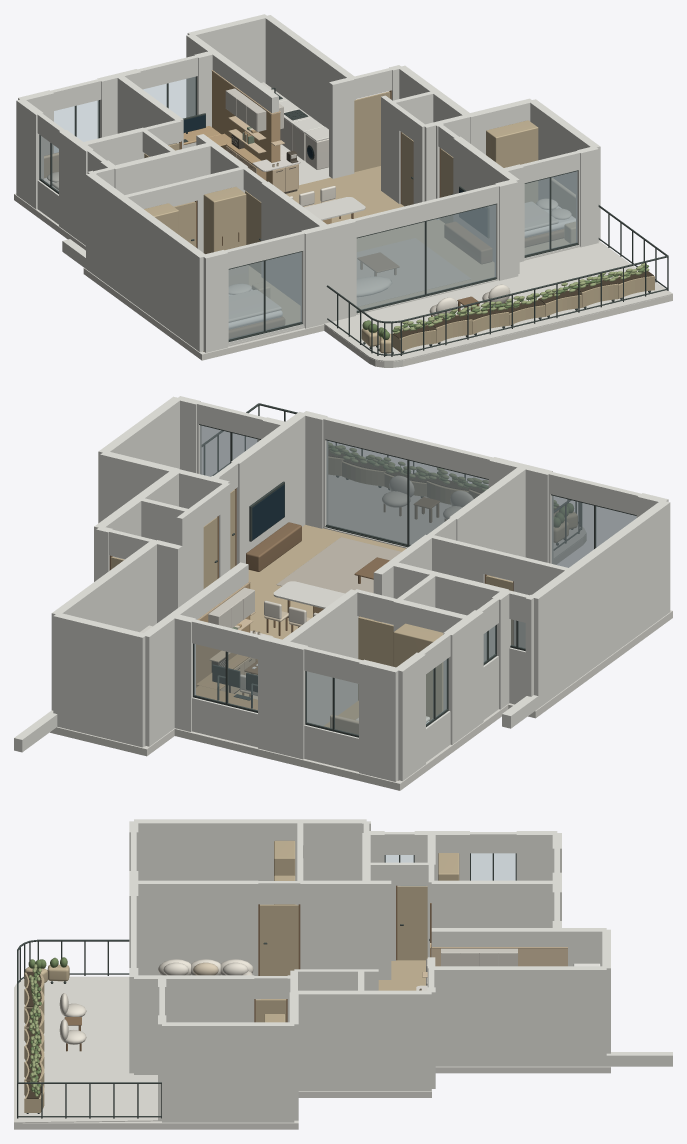
Rendered from wall-cabinet.glb.
The picture shows the model from 3 angles, top to bottom: view 1: azimuth 30°, elevation 25°; view 2: azimuth 150°, elevation 25°; view 3: azimuth 270°, elevation 25°; orthographic projection. The views are drawn at different scales.
Visible parts, largest first — view 1: Wall_MasterWest, LivingTerrace_glass, Floor_TerraceFloor, Floor_Living, MasterSouth_glass, Wall_MasterSouthEast, Wall_KitchenEast, Foundation, GuestSESouth_glass, LivingRug, Wall_MasterBedroomEast, Wall_BathNorth (+64 smaller); view 2: Wall_MasterWest, LivingTerrace_glass, Wall_KitchenNorth, Wall_GuestSEWest, Wall_NorthMiddlePier, Foundation, Wall_KitchenEast, Wall_BearingKitchenStudy, Floor_TerraceFloor, Wall_NorthBedroomPartition, Wall_GuestNWNorthWest, Wall_MasterBedroomEast (+54 smaller); view 3: Wall_KitchenEast, Floor_TerraceFloor, Wall_FoyerEast, Wall_GuestSEEast, Wall_MasterWest, Wall_MasterBedroomEast, Wall_MasterBathEast, Wall_GuestSEWest, Wall_NorthBedroomPartition, Foundation, Wall_BearingKitchenStudy, Door_MasterBedroom_East (+26 smaller).
Boxes of the visible parts, bbox=[...] form: Wall_MasterWest: bbox=[86, 173, 205, 351]; LivingTerrace_glass: bbox=[356, 204, 495, 310]; Floor_TerraceFloor: bbox=[324, 243, 672, 361]; Floor_Living: bbox=[286, 166, 494, 310]; MasterSouth_glass: bbox=[228, 252, 301, 339]; Wall_MasterSouthEast: bbox=[301, 218, 355, 328]; Wall_KitchenEast: bbox=[263, 15, 355, 129]; Foundation: bbox=[14, 193, 672, 367]; GuestSESouth_glass: bbox=[524, 171, 577, 255]; LivingRug: bbox=[357, 238, 470, 306]; Wall_MasterBedroomEast: bbox=[261, 181, 326, 304]; Wall_BathNorth: bbox=[112, 142, 213, 206]; Wall_MasterWest: bbox=[532, 500, 670, 708]; LivingTerrace_glass: bbox=[326, 440, 488, 544]; Wall_KitchenNorth: bbox=[53, 613, 146, 747]; Wall_GuestSEWest: bbox=[231, 411, 306, 564]; Wall_NorthMiddlePier: bbox=[258, 635, 308, 759]; Foundation: bbox=[50, 534, 672, 790]; Wall_KitchenEast: bbox=[51, 540, 156, 710]; Wall_BearingKitchenStudy: bbox=[142, 562, 248, 746]; Floor_TerraceFloor: bbox=[328, 475, 586, 558]; Wall_NorthBedroomPartition: bbox=[280, 589, 358, 725]; Wall_GuestNWNorthWest: bbox=[359, 659, 400, 781]; Wall_MasterBedroomEast: bbox=[449, 466, 527, 581]; Wall_KitchenEast: bbox=[431, 966, 606, 1066]; Floor_TerraceFloor: bbox=[14, 976, 161, 1123]; Wall_FoyerEast: bbox=[294, 990, 431, 1090]; Wall_GuestSEEast: bbox=[162, 1022, 294, 1122]; Wall_MasterWest: bbox=[134, 819, 366, 904]; Wall_MasterBedroomEast: bbox=[134, 880, 258, 975]; Wall_MasterBathEast: bbox=[300, 880, 391, 979]; Wall_GuestSEWest: bbox=[134, 975, 254, 1074]; Wall_NorthBedroomPartition: bbox=[431, 880, 557, 927]; Foundation: bbox=[14, 1066, 610, 1129]; Wall_BearingKitchenStudy: bbox=[431, 928, 606, 966]; Door_MasterBedroom_East: bbox=[260, 904, 298, 975].
Size of the model in its own units: 12.85 by 3 by 17.31.
